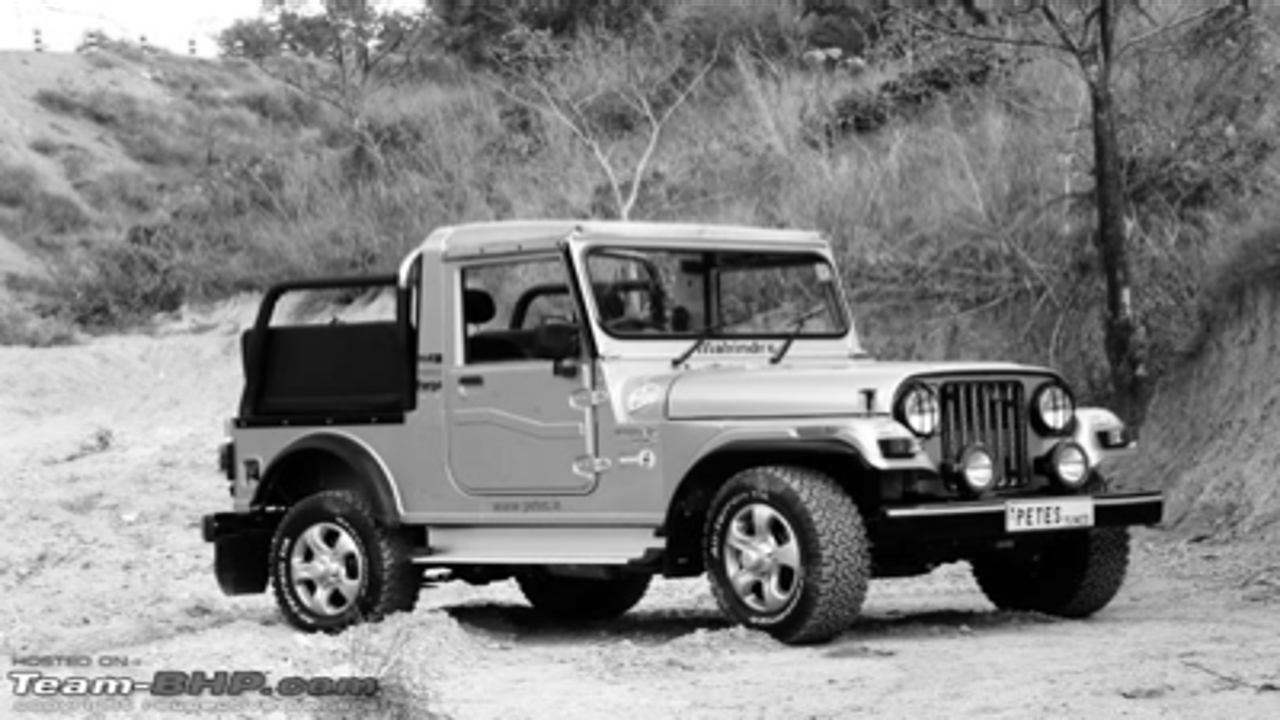license: (999, 488, 1104, 538)
